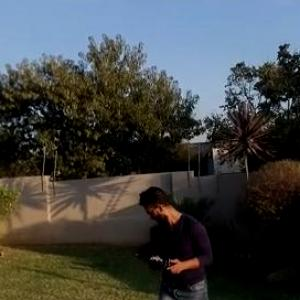follow: (136, 181, 217, 299)
